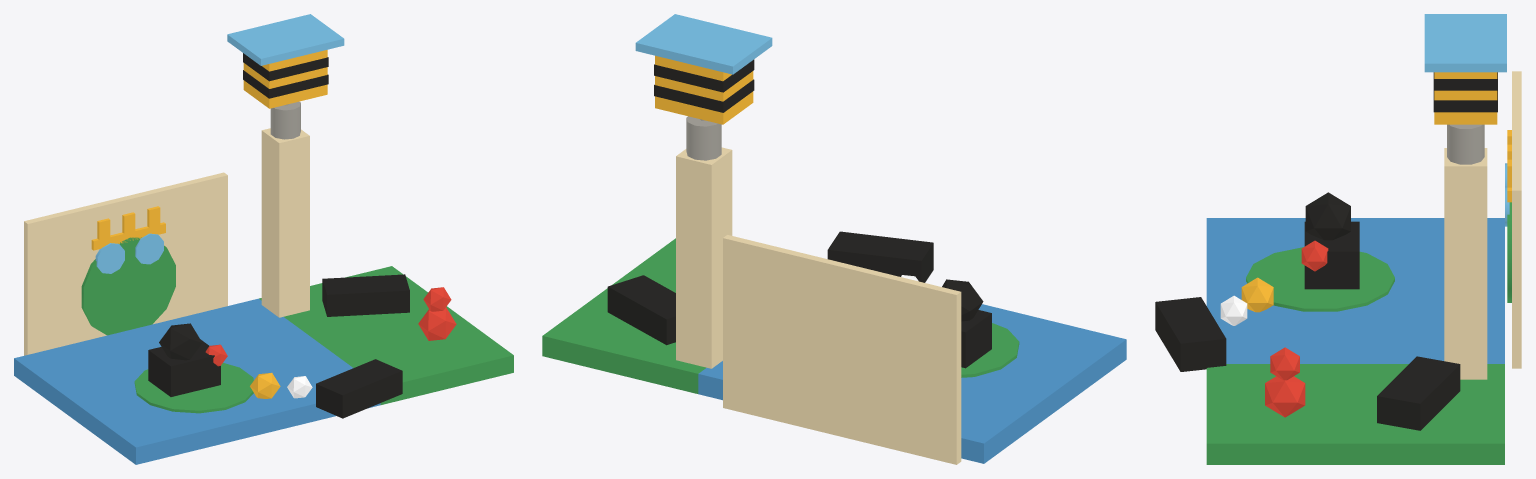
The model's file is frog-pond.glb.
3 renders of one model, left to right at view 1: azimuth 30°, elevation 25°; view 2: azimuth 150°, elevation 25°; view 3: azimuth 270°, elevation 25°, orthographic. The views are drawn at different scales.
Bounding box in the file's own units: 6.8 × 4.96 × 4.66.
